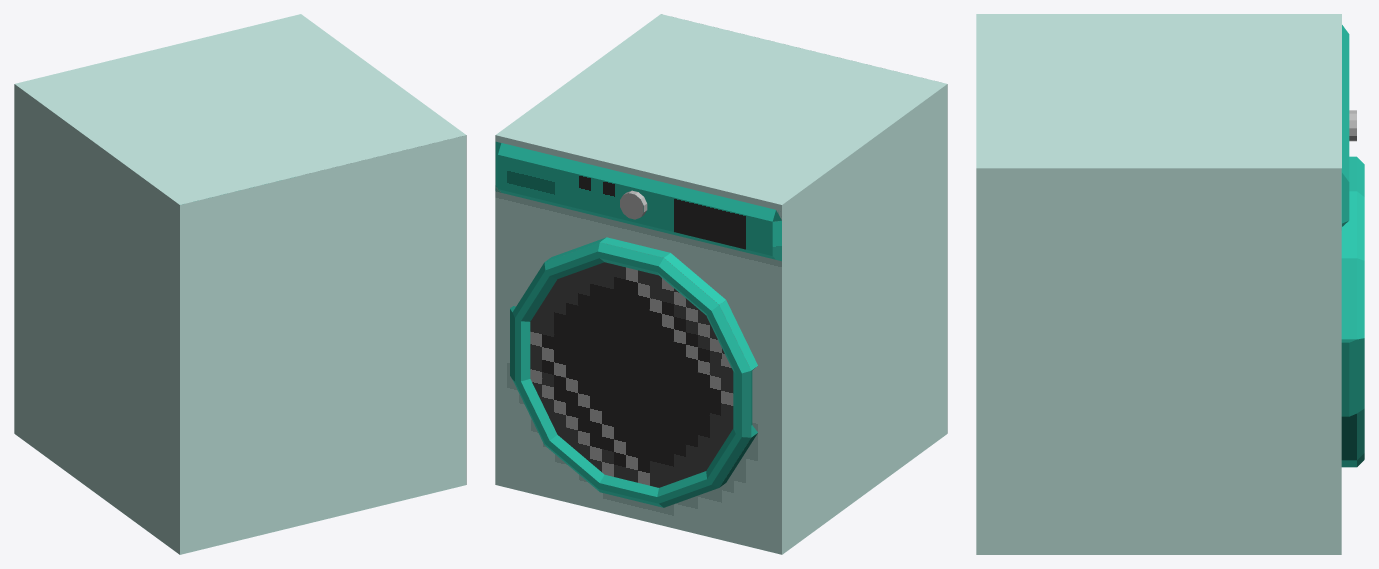
Rendered from washer.glb.
3 views of the same model, side by side, from view 1: azimuth 30°, elevation 25°; view 2: azimuth 150°, elevation 25°; view 3: azimuth 270°, elevation 25° (orthographic). The views are drawn at different scales.
Parts seen in each view (by area): view 1: Object_4; view 2: Object_4; view 3: Object_4.
Part boxes in pixels (x1,y1,x2,y2): Object_4: [14, 14, 466, 554]; Object_4: [495, 14, 947, 554]; Object_4: [976, 14, 1364, 554].
Bounding box in the file's own units: 0.75 × 0.875 × 0.7969.
1 material, 1 textured.
